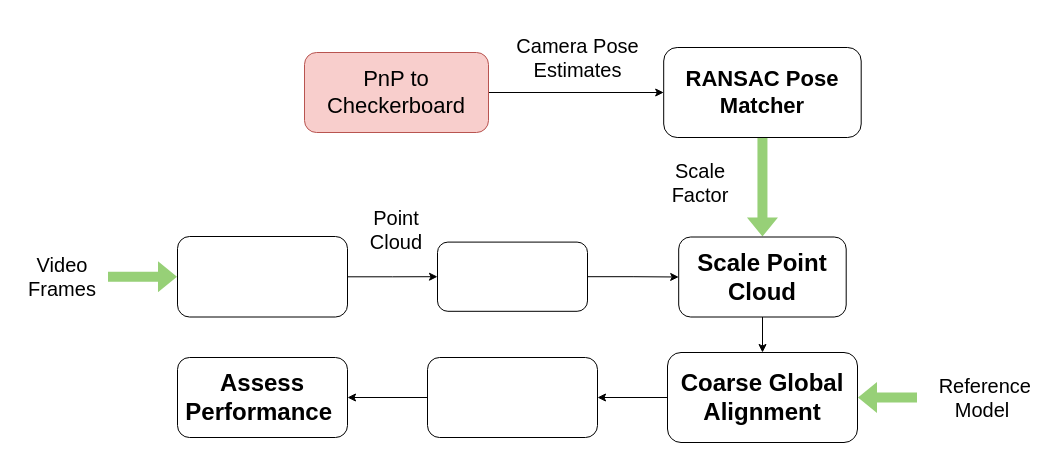
The diagram is 1064 pixels wide and 460 high, and some of its shapes have lost their labels. Here are the shapes that lost their labels. From the top down, the centre of each, then its label:
point 262,276: Structure From Motion
point 512,276: Outlier Removal
point 512,397: ICP Alignment
